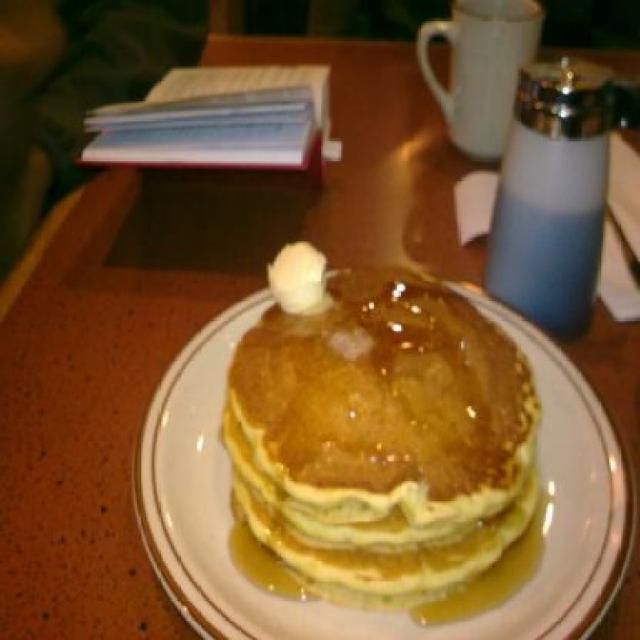Pancake: (233, 267, 542, 518), (218, 386, 544, 548), (231, 449, 543, 600)
